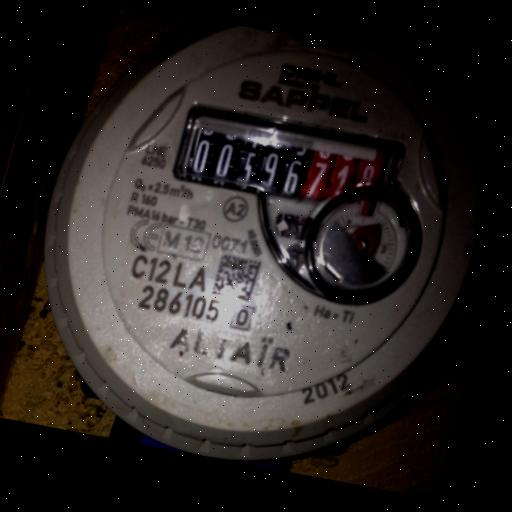0: (183, 126, 222, 182), (209, 130, 246, 185)
1: (322, 152, 361, 208)
5: (233, 134, 267, 188)
6: (276, 143, 313, 199)
7: (298, 147, 336, 204)
8: (351, 145, 388, 196)
9: (254, 139, 290, 193)
border_water_meter_number: (175, 104, 392, 224)
